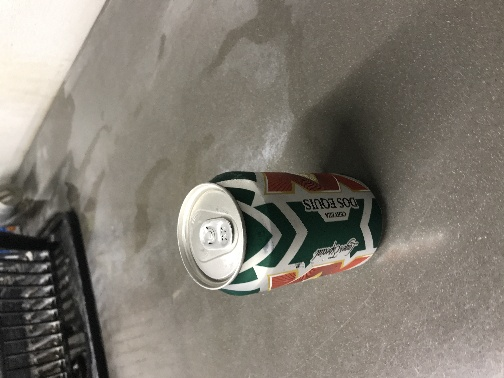DEL: (124, 123, 279, 215)
